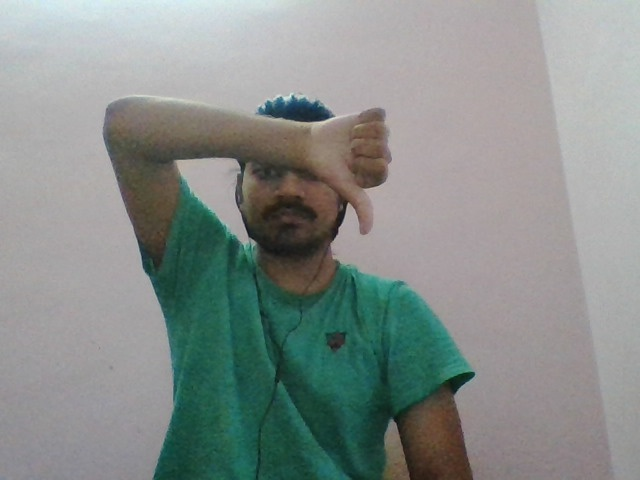ThumbsDown: (311, 106, 394, 238)
